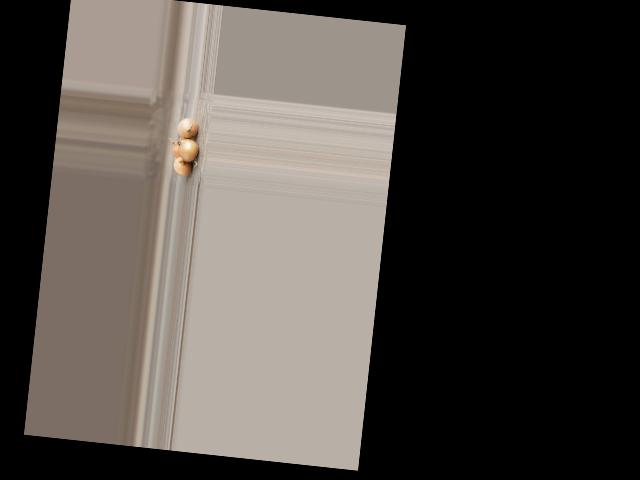onion: (170, 140, 187, 160)
